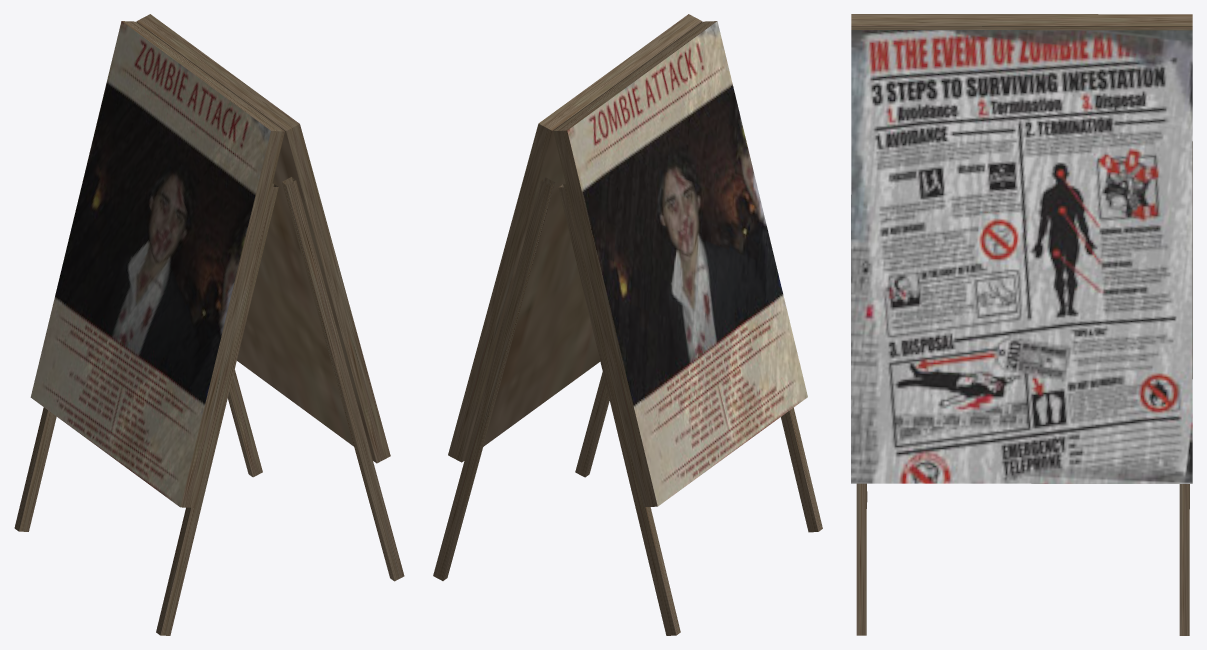
File: schild1.obj
The picture shows the model from 3 angles, left to right: view 1: azimuth 30°, elevation 25°; view 2: azimuth 150°, elevation 25°; view 3: azimuth 270°, elevation 25°; orthographic projection. The views are drawn at different scales.
Parts seen in each view (by area): view 1: polySurface5; view 2: polySurface5; view 3: polySurface5.
Boxes of the visible parts, box(x1,y1,x2,y2) form: polySurface5: box(14, 14, 404, 635); polySurface5: box(433, 14, 822, 635); polySurface5: box(851, 14, 1192, 635).
Bounding box in the file's own units: 0.4046 × 0.7642 × 0.4309.
Materials: 1 (1 with a texture image).
